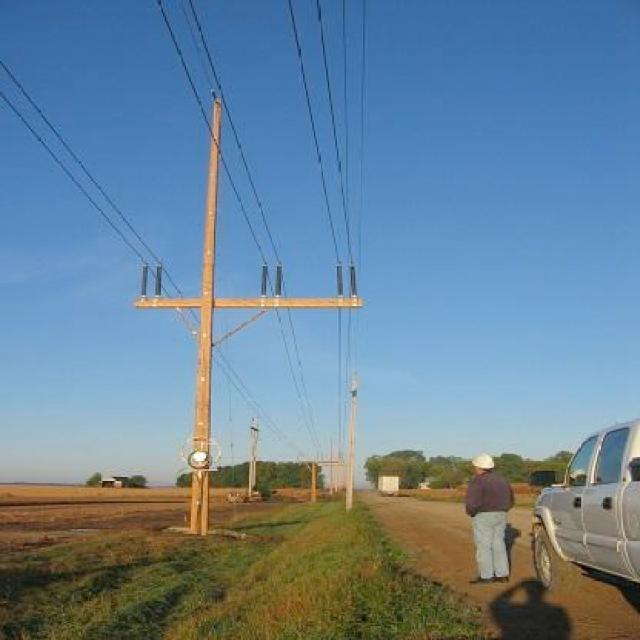crossarm: (131, 297, 366, 312)
pole: (188, 98, 222, 537), (343, 371, 360, 514)
